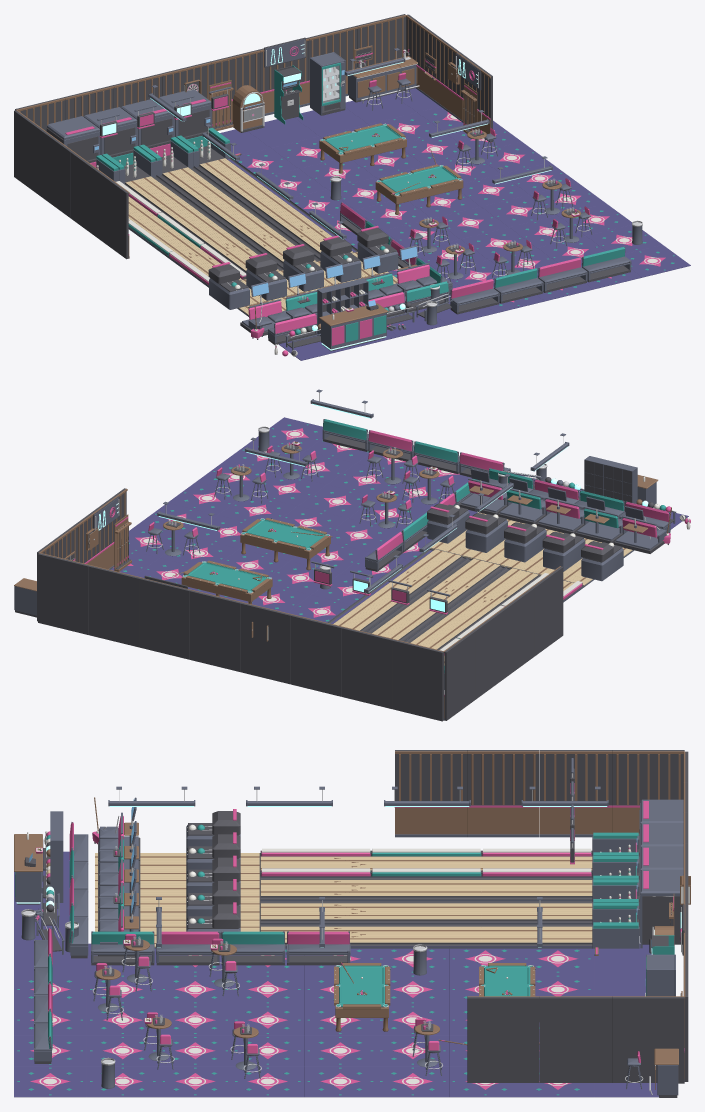
The model's file is bowling-alley-and-pool-hall-bowling-alle-4f825364-starter-scene__33882.glb.
3 renders of one model, top to bottom at view 1: azimuth 30°, elevation 25°; view 2: azimuth 150°, elevation 25°; view 3: azimuth 270°, elevation 25°, orthographic. The views are drawn at different scales.
Visible parts, largest first — view 1: 212-wall-panel-module/0, 211-wall-panel-module/0, 210-wall-panel-module/0, 068-shoe-hire-counter/0, 209-wall-panel-module/0, 205-wall-panel-module/0, 086-pool-table/0, 082-pool-table/0, 202-wall-panel-module/0, 180-plain-floor-module/0, 162-plain-floor-module/0, 079-vending-machine/0 (+91 smaller); view 2: 202-wall-panel-module/0, 198-wall-panel-module/0, 205-wall-panel-module/0, 200-wall-panel-module/0, 204-wall-panel-module/0, 199-wall-panel-module/0, 203-wall-panel-module/0, 201-wall-panel-module/0, 209-wall-panel-module/0, 210-wall-panel-module/0, 212-wall-panel-module/0, 211-wall-panel-module/0 (+61 smaller); view 3: 207-wall-panel-module/0, 208-wall-panel-module/0, 206-wall-panel-module/0, 211-wall-panel-module/1, 211-wall-panel-module/0, 209-wall-panel-module/0, 212-wall-panel-module/1, 212-wall-panel-module/0, 210-wall-panel-module/1, 210-wall-panel-module/0, 184-carpet-floor-module/0, 193-carpet-floor-module/0 (+116 smaller).
Boxes of the visible parts, x1,y1,x2,y2 form: 212-wall-panel-module/0: (98,172,128,259); 211-wall-panel-module/0: (70,151,99,238); 210-wall-panel-module/0: (42,131,71,217); 068-shoe-hire-counter/0: (317,278,386,349); 209-wall-panel-module/0: (14,110,43,196); 205-wall-panel-module/0: (356,14,406,68); 086-pool-table/0: (375,164,463,214); 082-pool-table/0: (319,123,406,173); 202-wall-panel-module/0: (210,49,259,99); 180-plain-floor-module/0: (345,94,416,124); 162-plain-floor-module/0: (248,118,318,147); 079-vending-machine/0: (310,52,345,115); 202-wall-panel-module/0: (189,590,241,671); 198-wall-panel-module/0: (392,639,443,721); 205-wall-panel-module/0: (38,553,89,634); 200-wall-panel-module/0: (291,615,342,696); 204-wall-panel-module/0: (88,565,139,647); 199-wall-panel-module/0: (341,627,392,708); 203-wall-panel-module/0: (139,578,190,659); 201-wall-panel-module/0: (240,602,291,684); 209-wall-panel-module/0: (444,630,475,720); 210-wall-panel-module/0: (474,609,504,699); 212-wall-panel-module/0: (532,566,563,656); 211-wall-panel-module/0: (503,588,533,677); 207-wall-panel-module/0: (540,997,612,1082); 208-wall-panel-module/0: (467,997,539,1082); 206-wall-panel-module/0: (612,997,684,1083); 211-wall-panel-module/1: (467,751,539,834); 211-wall-panel-module/0: (467,750,539,805); 209-wall-panel-module/0: (612,750,684,805); 212-wall-panel-module/1: (395,751,467,834); 212-wall-panel-module/0: (395,750,467,800); 210-wall-panel-module/1: (540,751,612,834); 210-wall-panel-module/0: (540,750,612,805); 184-carpet-floor-module/0: (304,1035,376,1066); 193-carpet-floor-module/0: (304,1066,376,1097).
Size of the model in its own units: 17.2 by 3.5 by 18.67.
